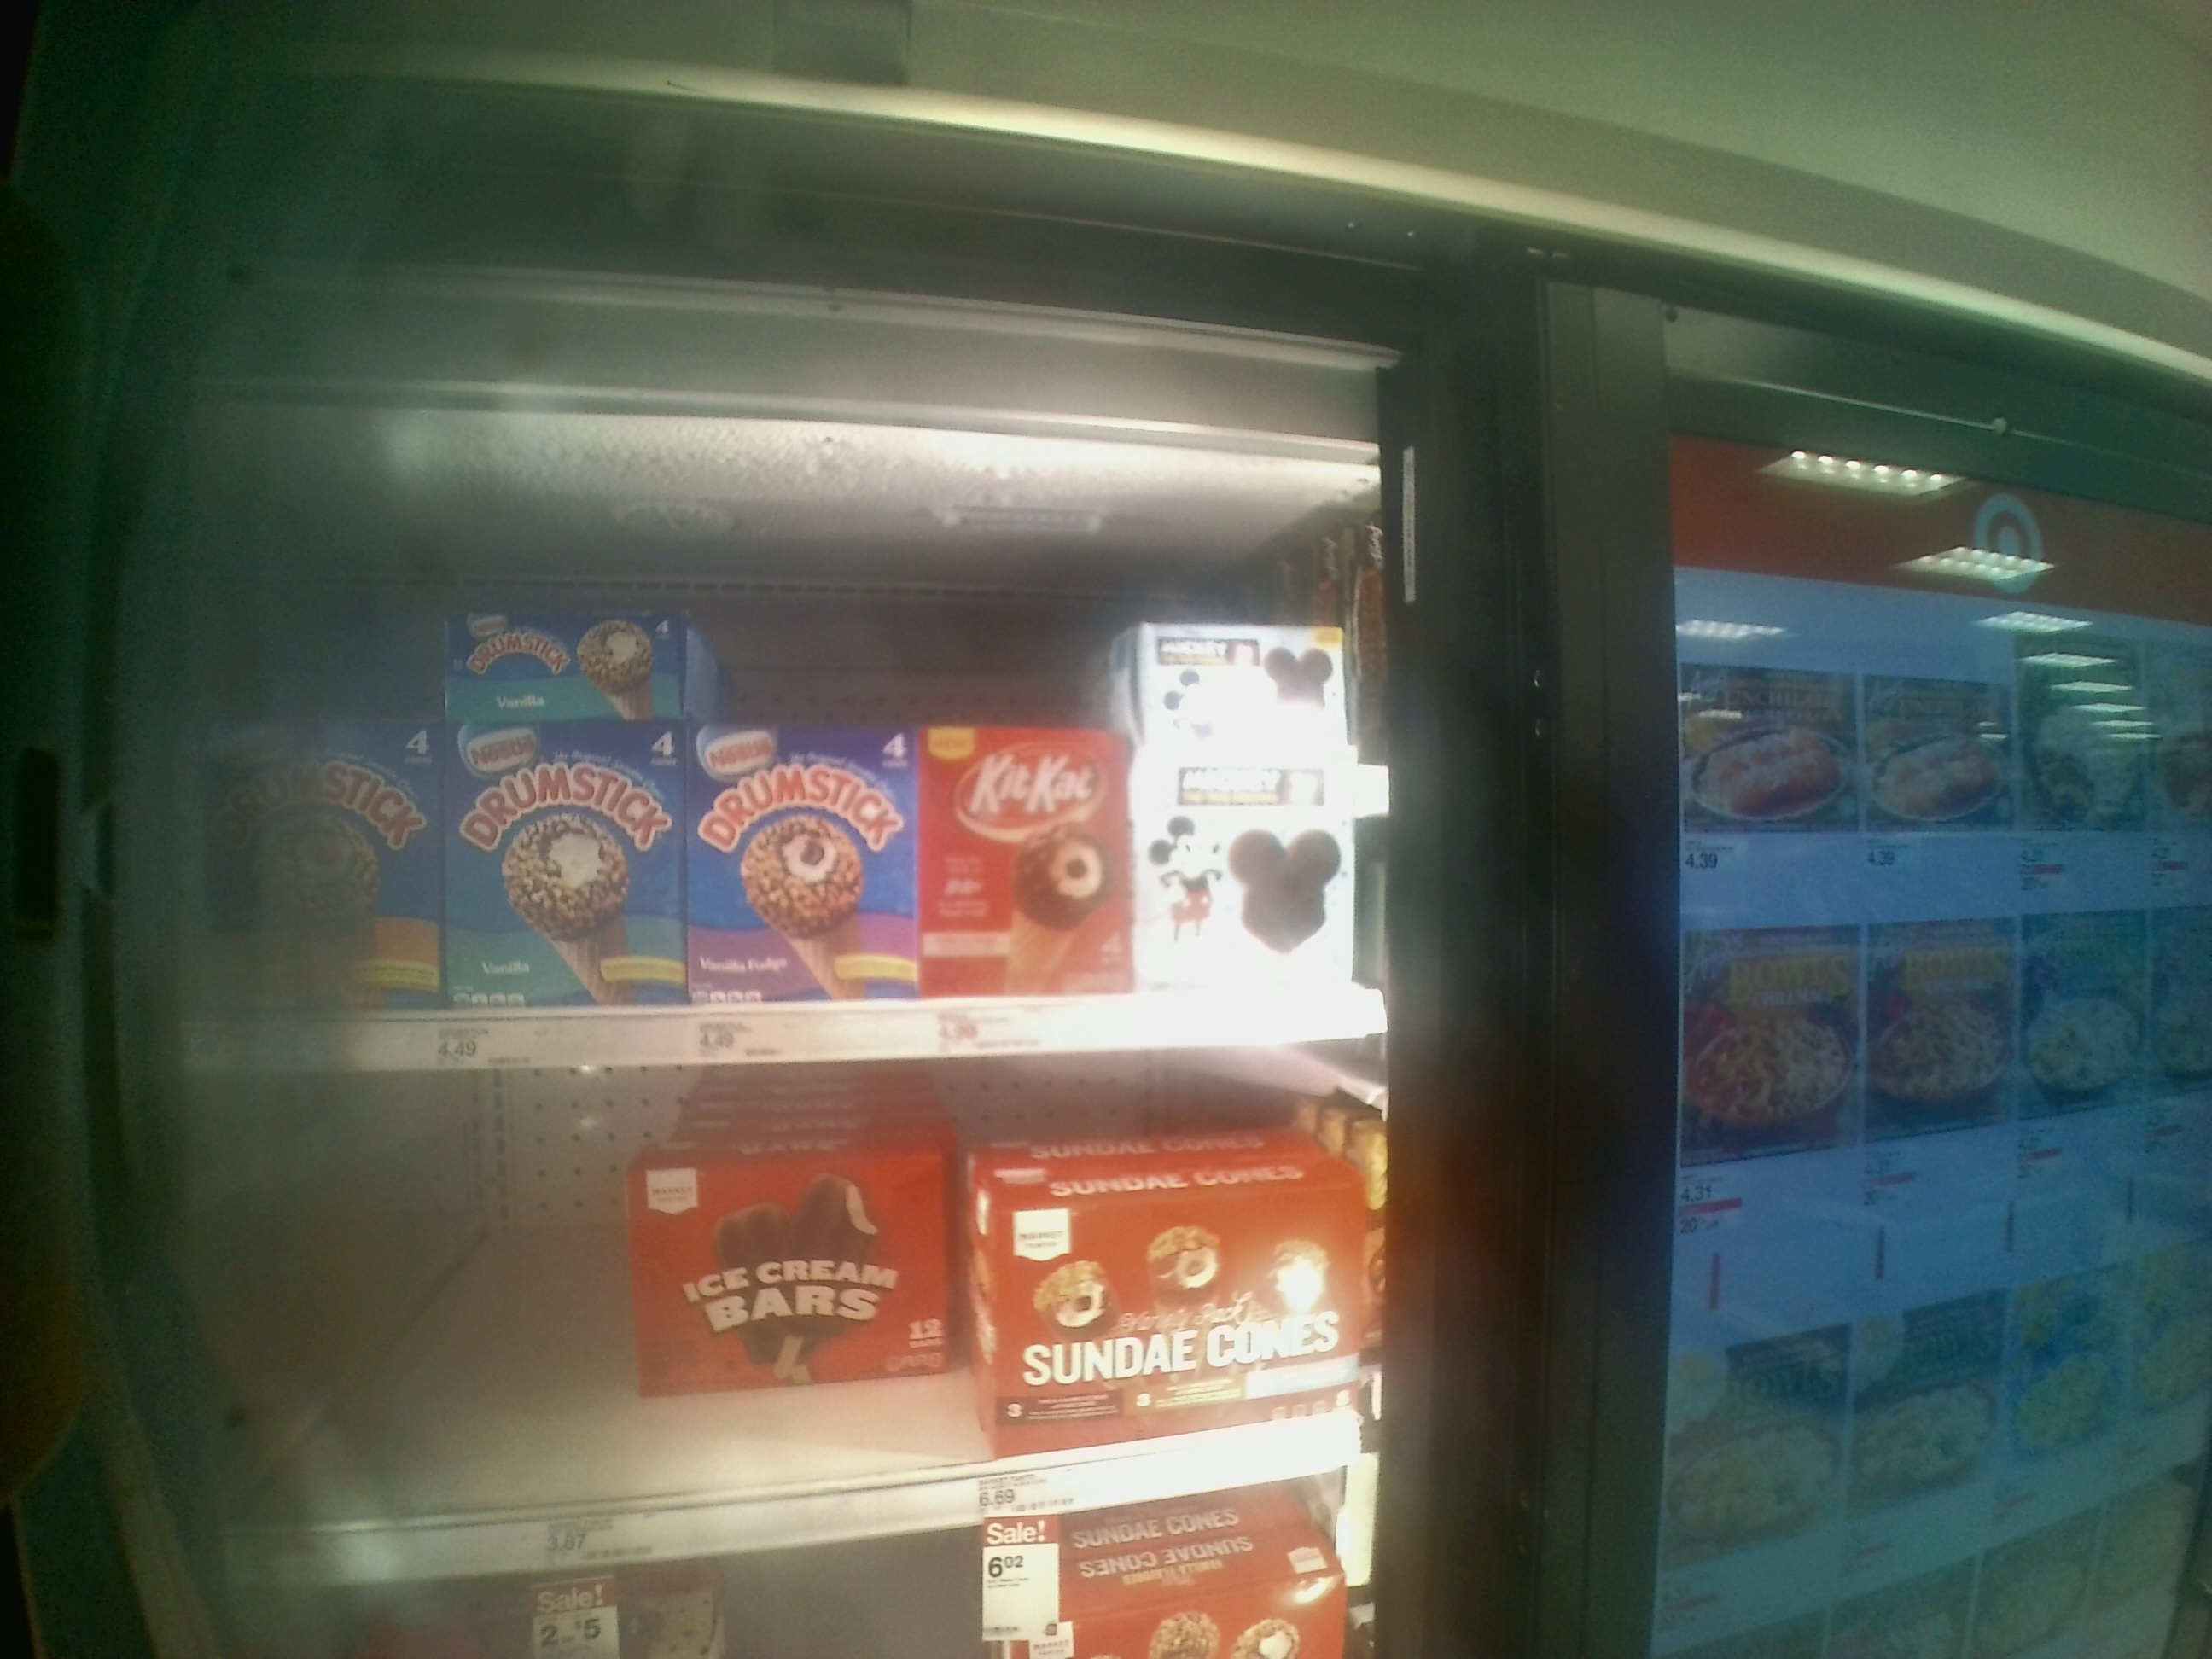shelf: (176, 493, 1388, 1073), (200, 1040, 1411, 1584)
